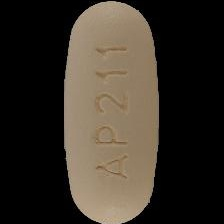61919-354: (0, 0, 224, 224)
